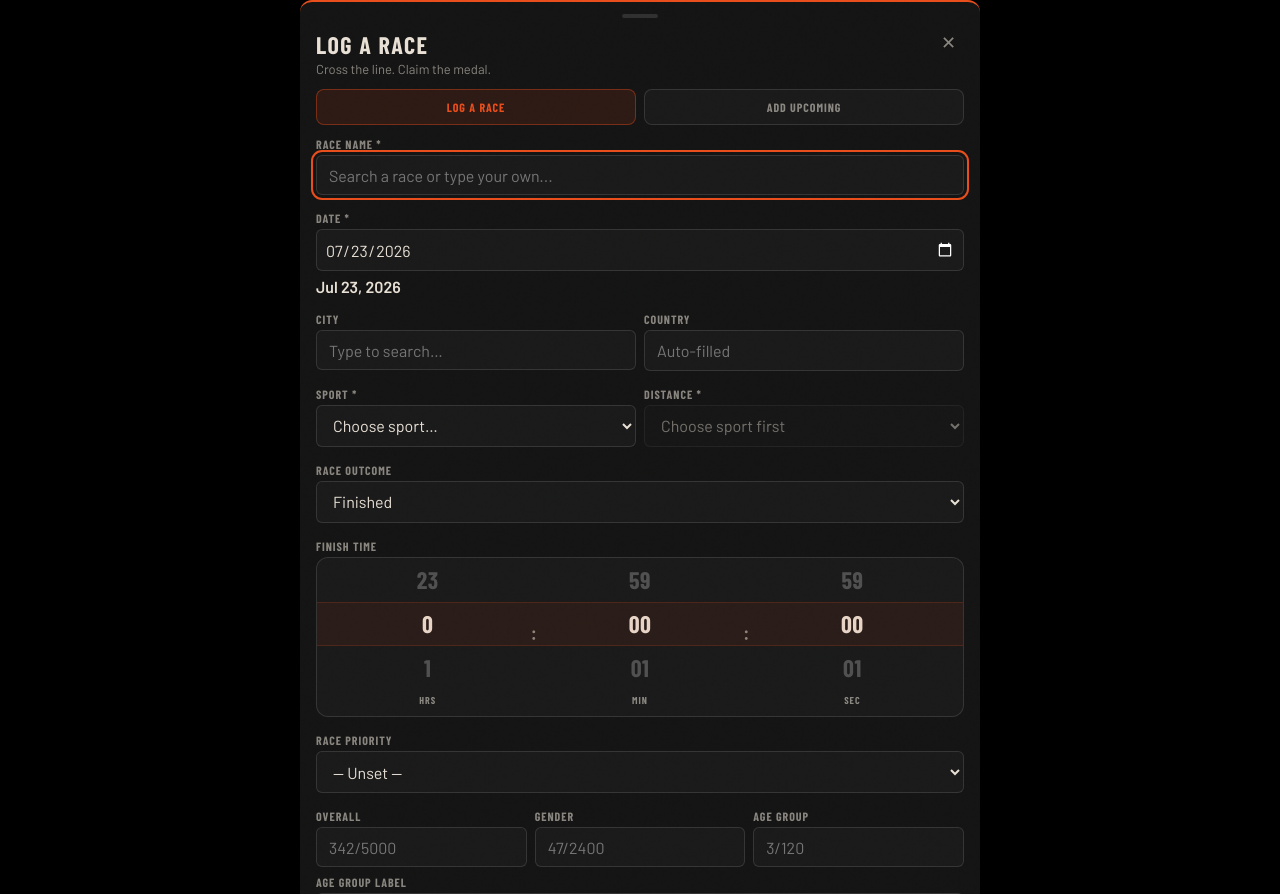
AddRaceModal — unknown race name › save button is not disabled when no suggestions match
(page scrolled)
In the field with placeholder "Search a race or type your own...": (640, 175) [316,155,964,195], type "ZZZ Unknown Race XYZ"
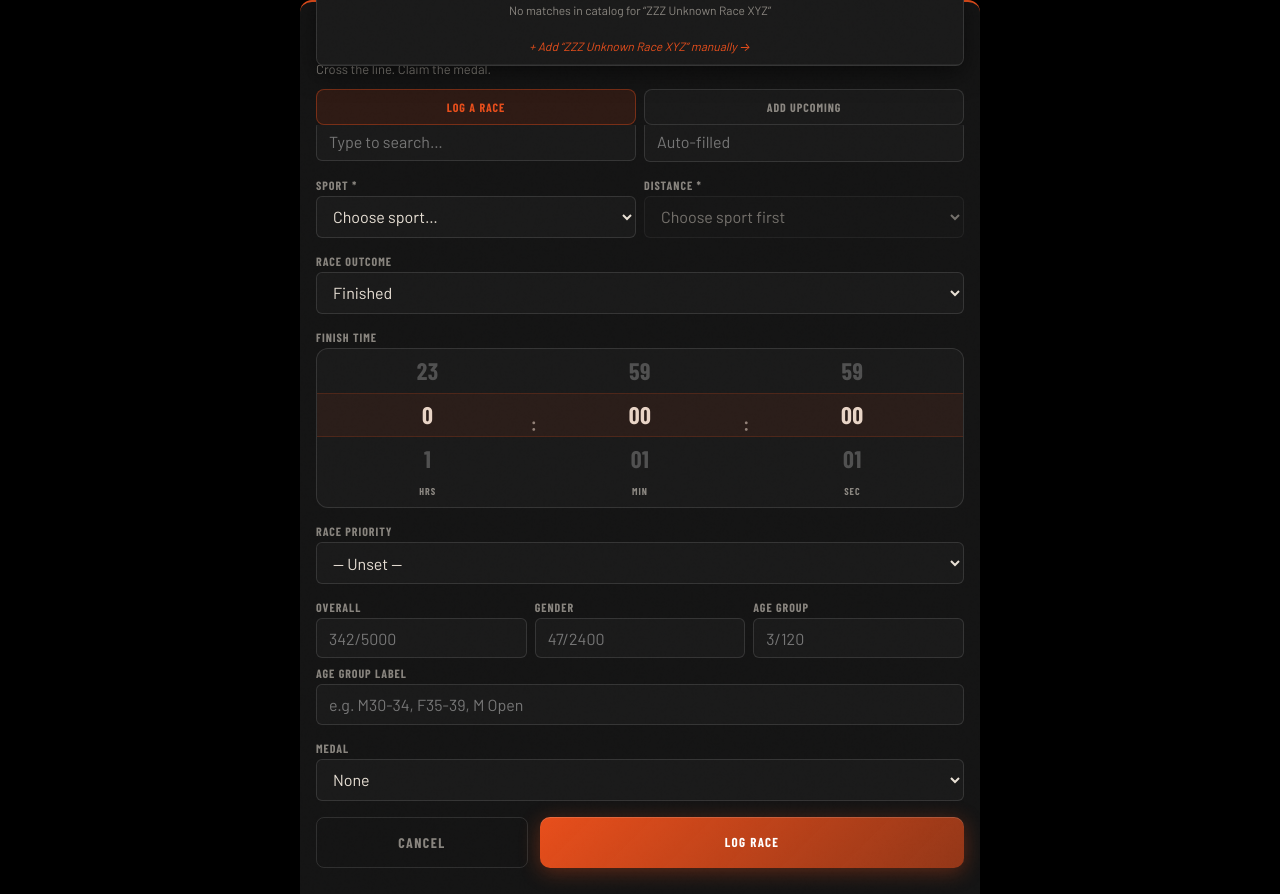
Expected: the button "LOG RACE" is enabled, [540,817,964,868]
